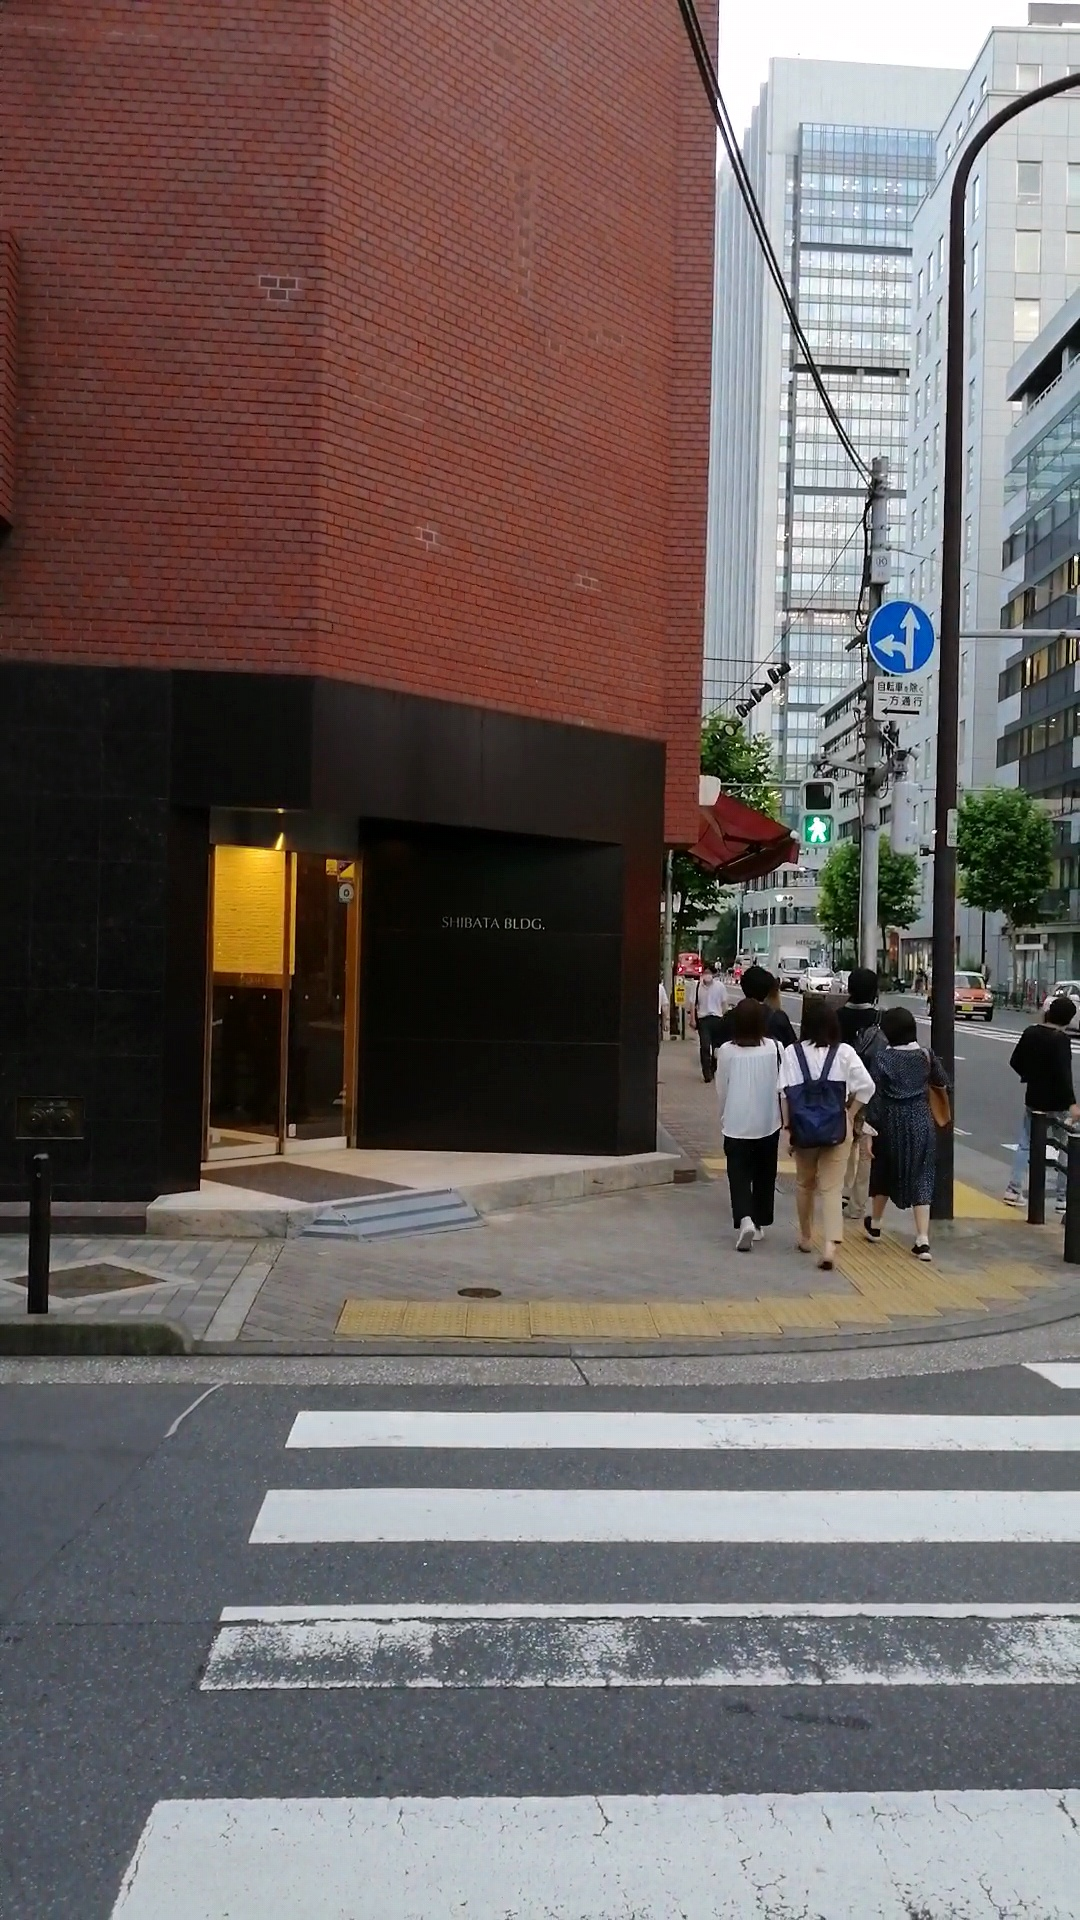green: (799, 777, 836, 847)
